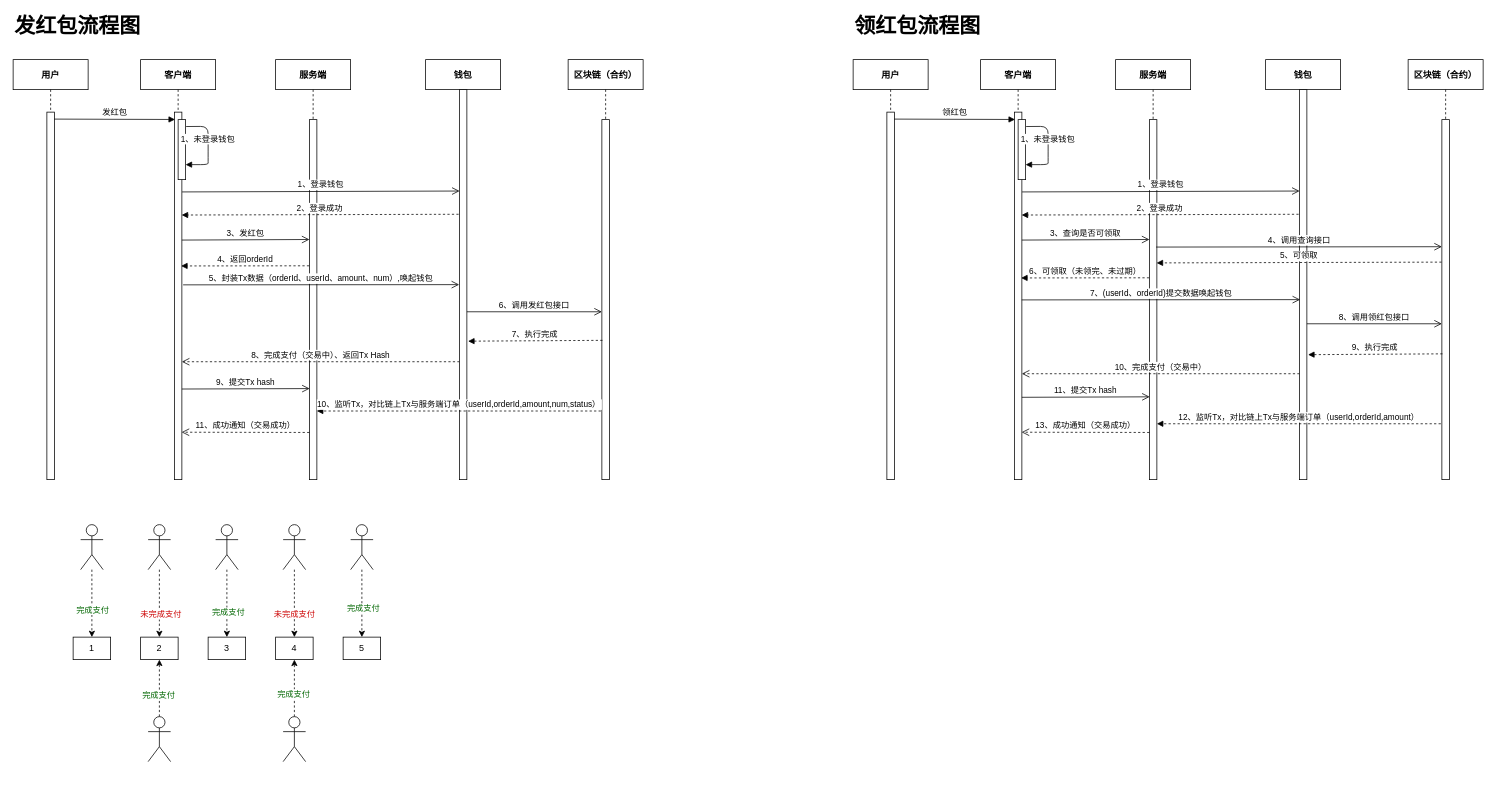
Image size: 1496x790. Some labels were removed from this diagram. Here are the shapes that lost their labels. From the top down, the centre of each, then its label:
At pixel 91 547: "用户1".
At pixel 159 547: "用户2".
At pixel 226 547: "用户3".
At pixel 294 547: "用户4".
At pixel 361 547: "用户5".
At pixel 159 739: "用户6".
At pixel 294 739: "用户7".
